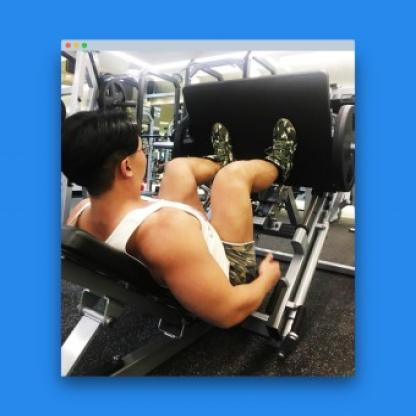leg press: (56, 38, 358, 377)
